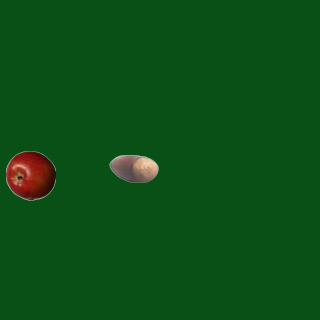Apple Braeburn: (5, 150, 55, 200)
Hazelnut: (108, 143, 158, 193)
